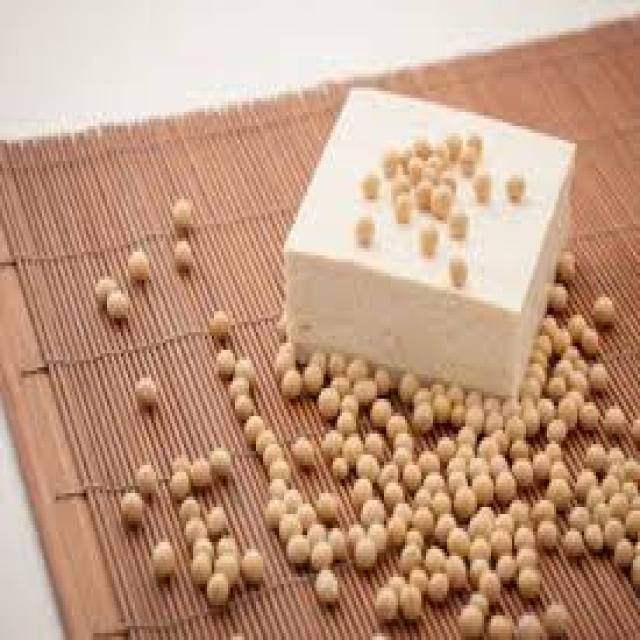tofu: (291, 59, 587, 406)
